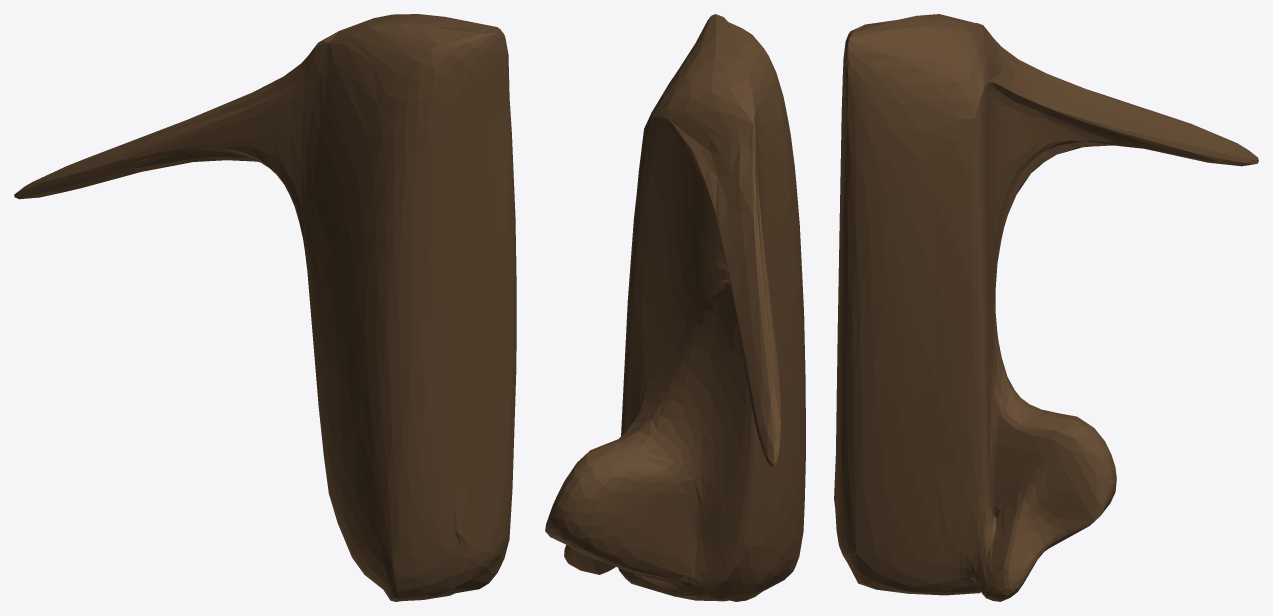
The picture shows the model from 3 angles, left to right: view 1: azimuth 30°, elevation 25°; view 2: azimuth 150°, elevation 25°; view 3: azimuth 270°, elevation 25°; orthographic projection. The views are drawn at different scales.
Parts seen in each view (by area): view 1: 922_Cube.3728; view 2: 922_Cube.3728; view 3: 922_Cube.3728.
Part boxes in pixels (x1,y1,x2,y2): 922_Cube.3728: (14, 14, 516, 601); 922_Cube.3728: (545, 14, 805, 601); 922_Cube.3728: (834, 14, 1258, 601).
Bounding box in the file's own units: 7.84 × 12.41 × 8.46.
